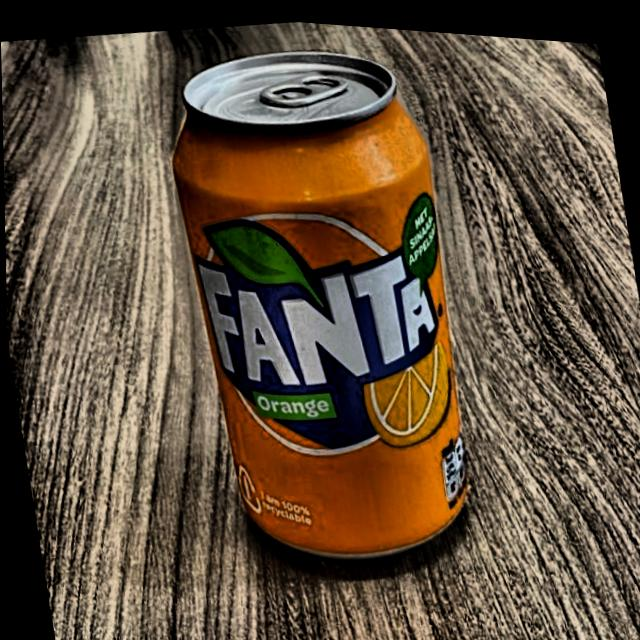Cans: (134, 9, 492, 596)
